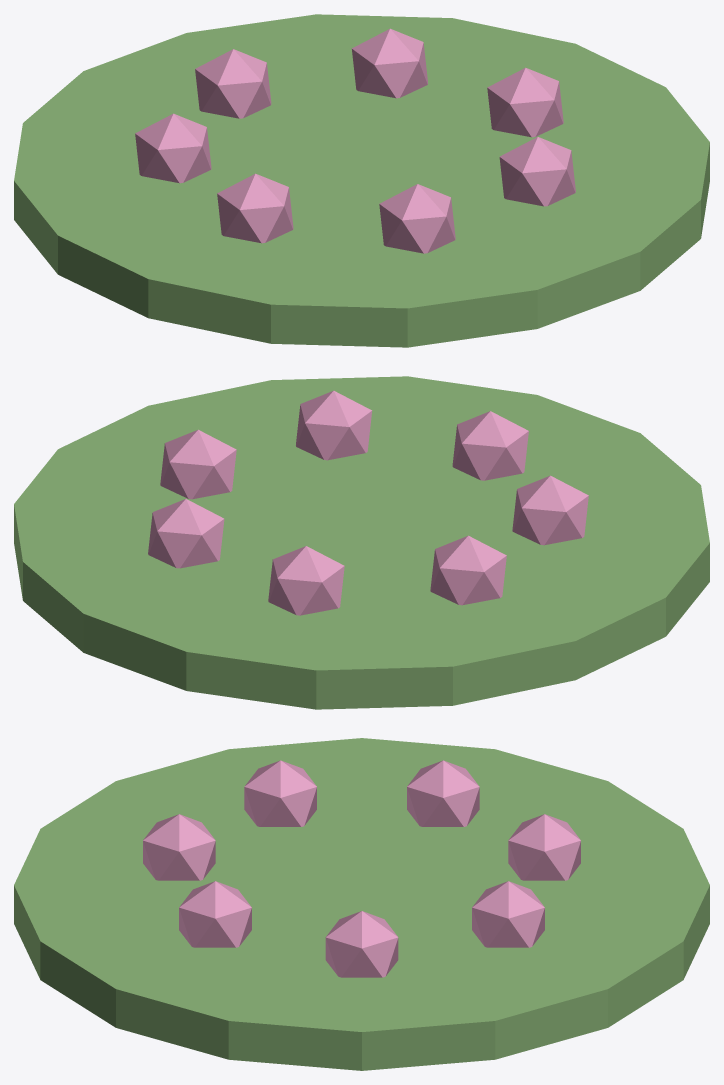
Rendered from flower_bed.glb.
3 renders of one model, top to bottom at view 1: azimuth 30°, elevation 25°; view 2: azimuth 150°, elevation 25°; view 3: azimuth 270°, elevation 25°, orthographic.
Visible parts, largest first — view 1: flower_bed; view 2: flower_bed; view 3: flower_bed.
Part boxes in pixels (left/top/right/bottom): flower_bed: left=14, top=14, right=709, bottom=347; flower_bed: left=14, top=376, right=709, bottom=709; flower_bed: left=14, top=738, right=709, bottom=1070.
Size of the model in its own units: 2.6 by 0.38 by 2.6.
